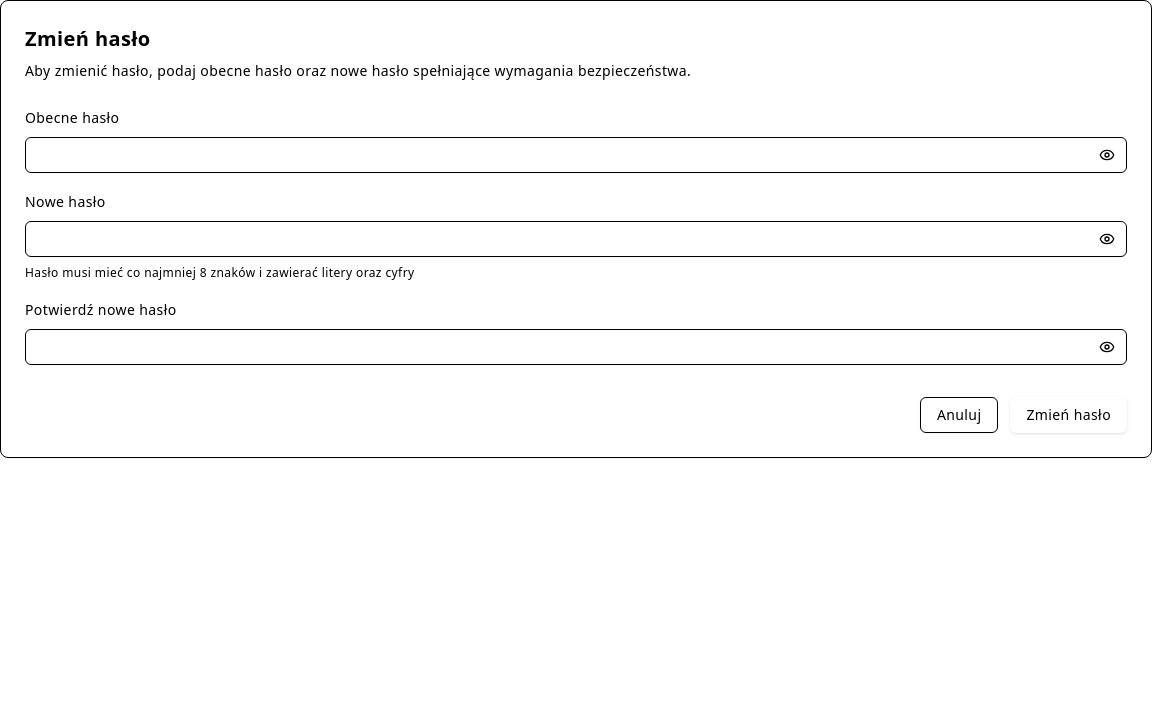
Test: ChangePasswordCard › validates required fields on submit
Click the button "Zmień hasło".
click(1069, 415)  # box [1010, 397, 1127, 433]
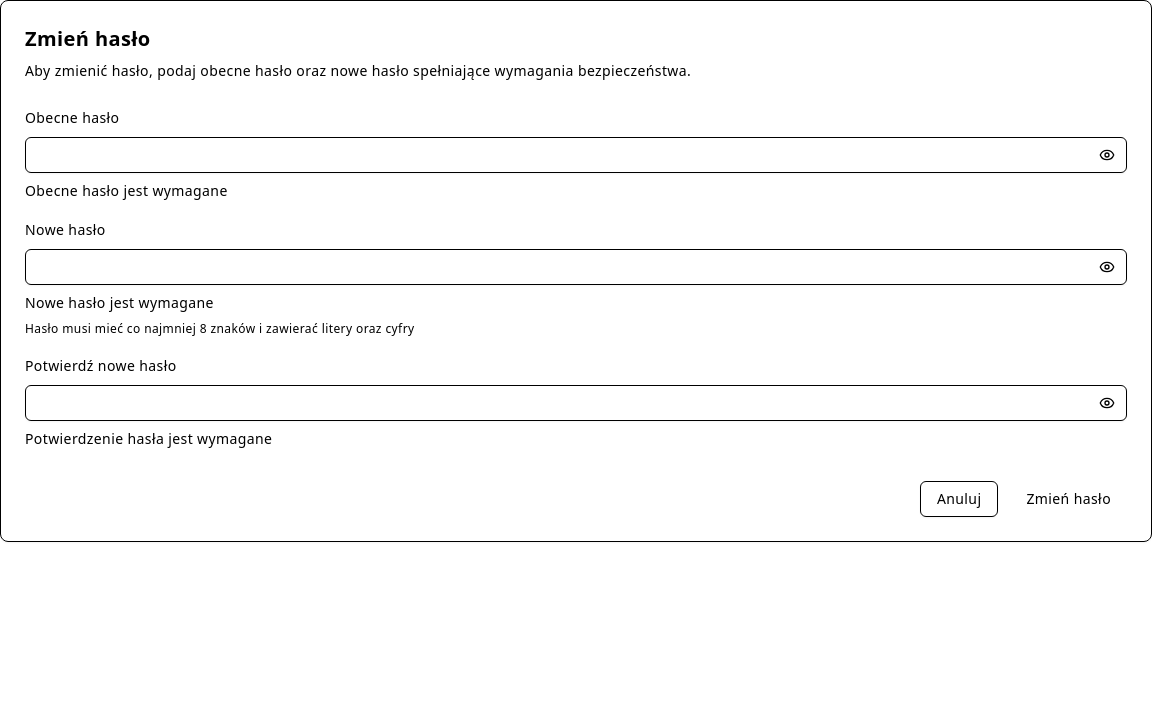
Expected: the text "Obecne hasło jest wymagane" is shown, [25, 181, 228, 200]
Expected: the text "Nowe hasło jest wymagane" is shown, [25, 293, 214, 312]
Expected: the text "Potwierdzenie hasła jest wymagane" is shown, [25, 429, 272, 448]
